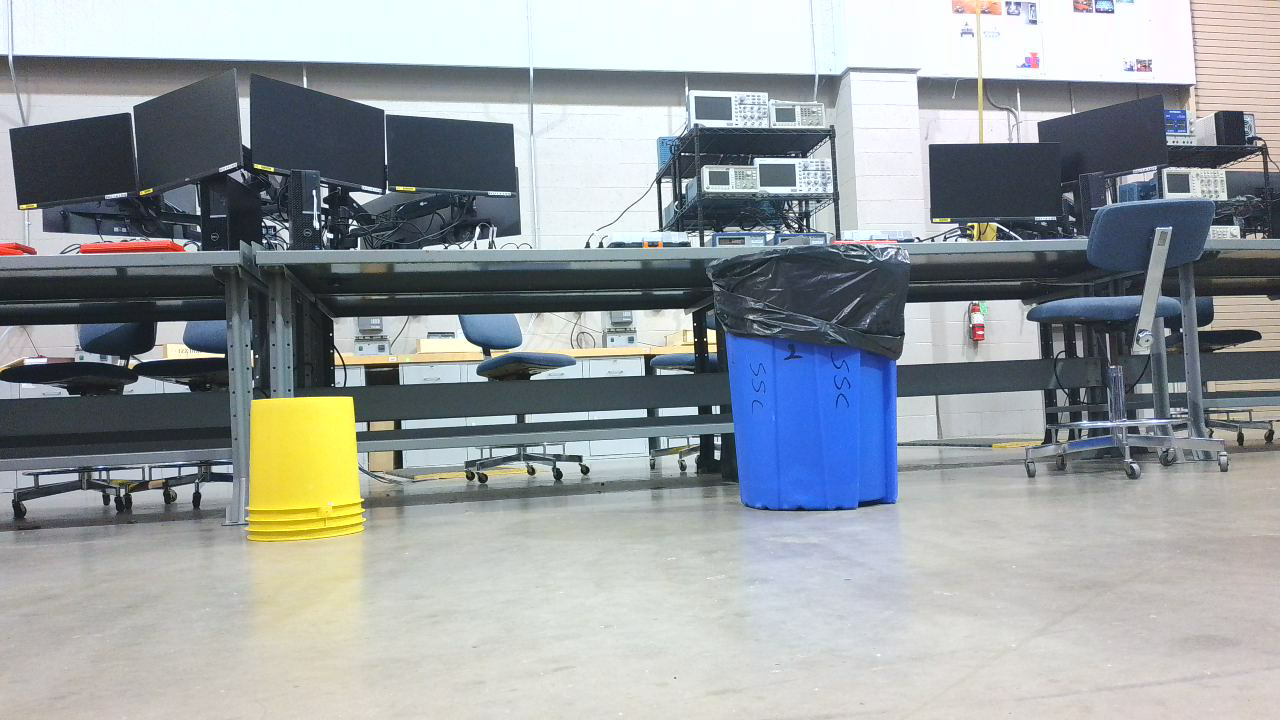yellow_bucket: (245, 393, 375, 553)
